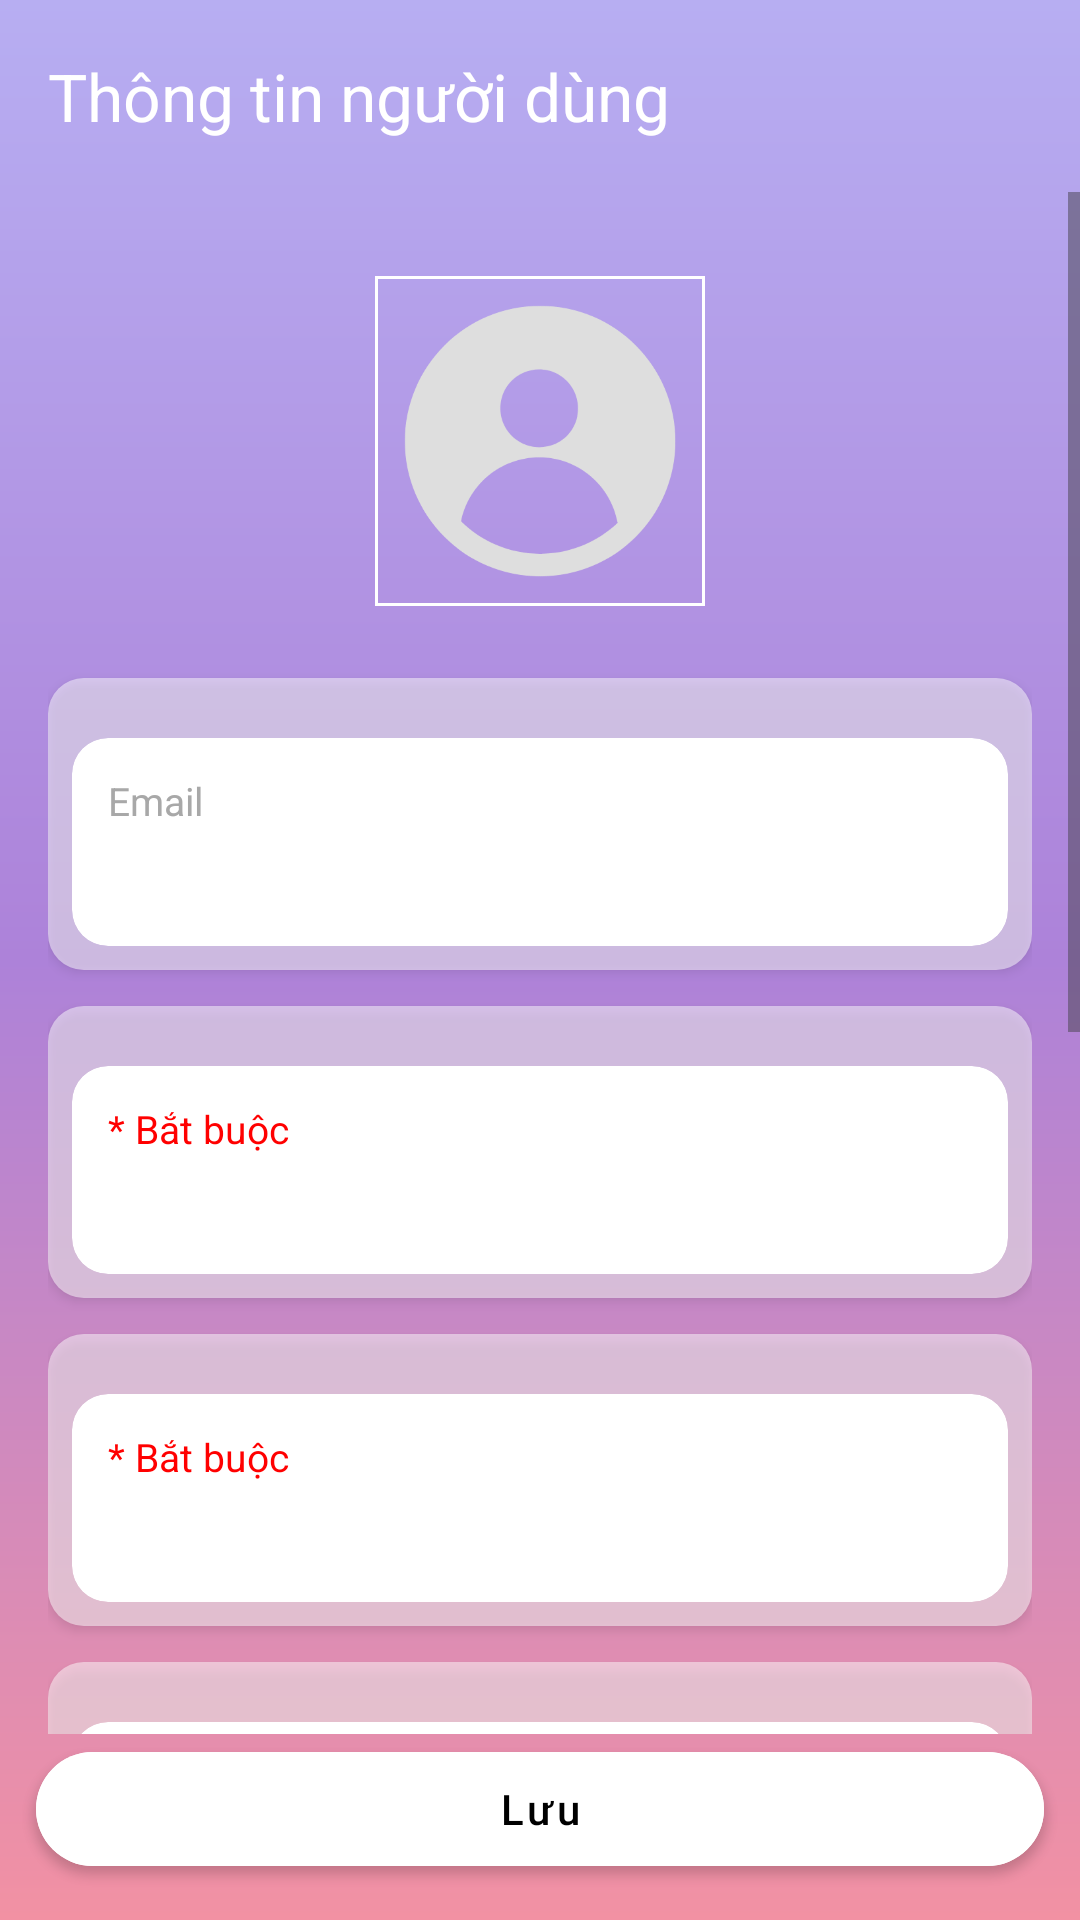

Icons on this 1080px×1920px Android screen, each with its box as box=[x1, y1, x2, y2]:
avt: box=[375, 276, 705, 606]
